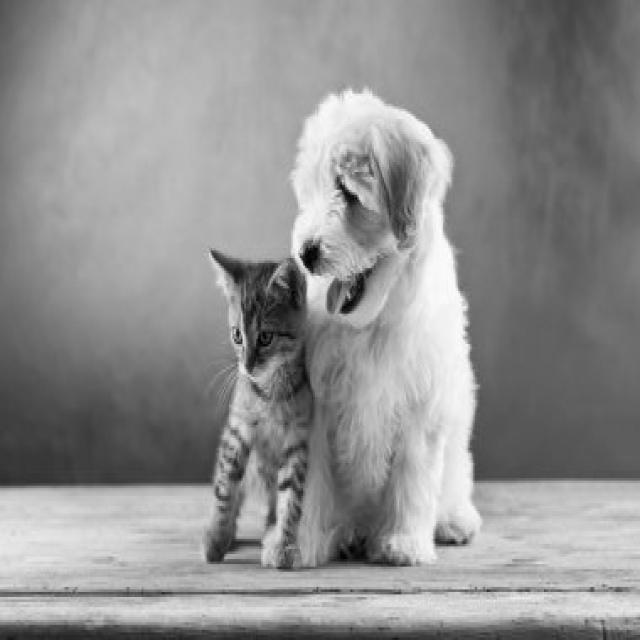Animal: (291, 90, 480, 566), (196, 229, 322, 574)
